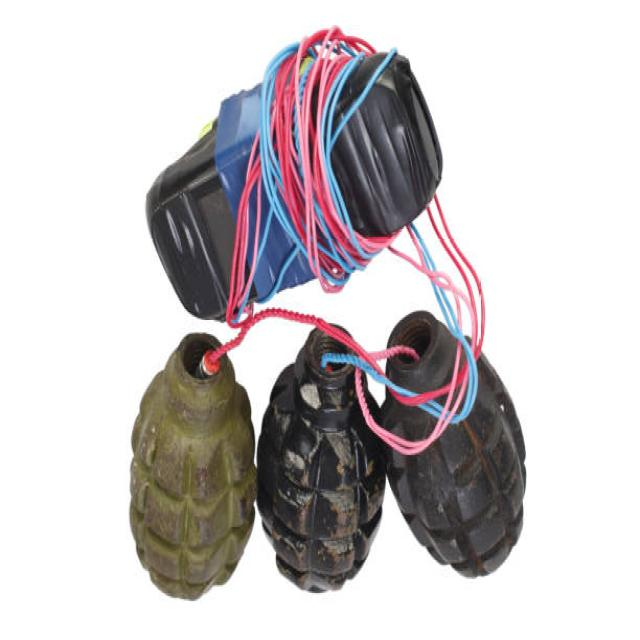grenade: (378, 307, 531, 581), (127, 328, 258, 606)
